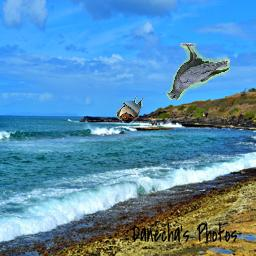Crow: (166, 44, 230, 101)
Swallow: (117, 97, 144, 124)
